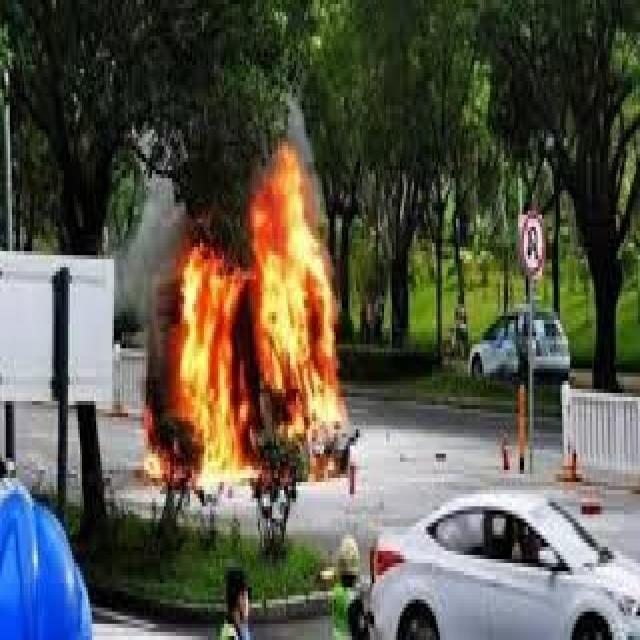fire: (152, 158, 350, 482)
